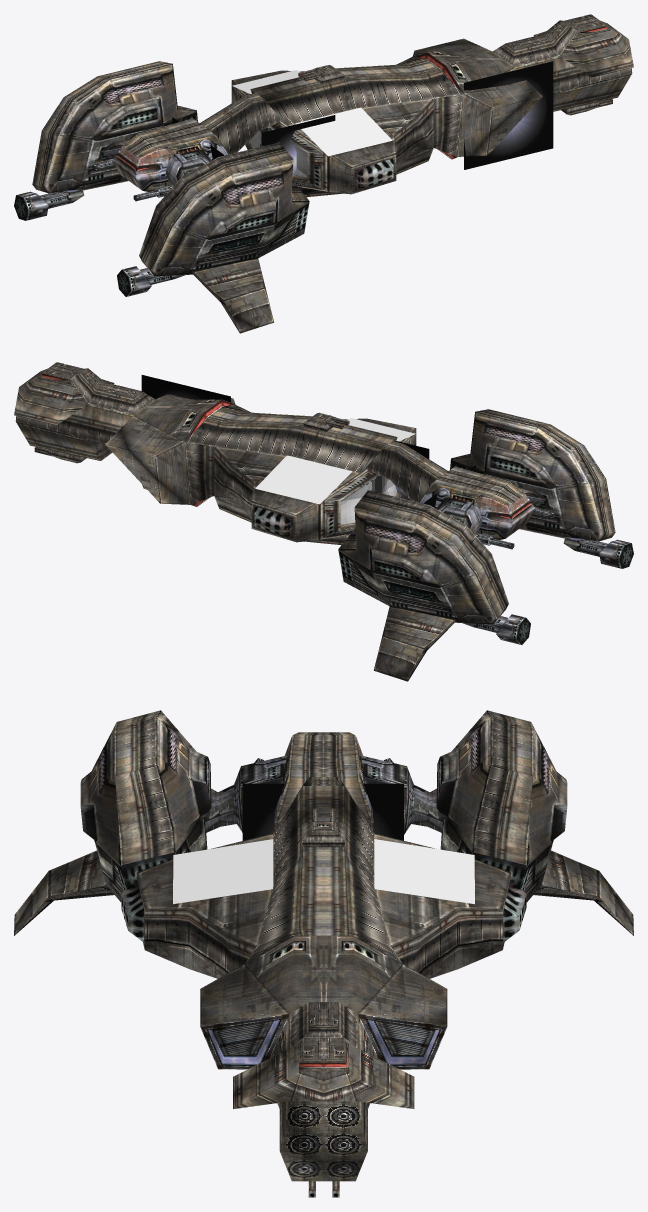
File: PVS09.obj
3 views of the same model, one above another, from view 1: azimuth 30°, elevation 25°; view 2: azimuth 150°, elevation 25°; view 3: azimuth 270°, elevation 25° (orthographic). The views are drawn at different scales.
Parts seen in each view (by area): view 1: WING010, PVS03_HULL0, PVS03_LENS100, DECAL000.002, PVS03_LENS090, PVS03_LENS080, WIN_SHEILD0; view 2: WING010, PVS03_HULL0, DECAL000.002, PVS03_LENS100, PVS03_LENS080, WIN_SHEILD0; view 3: PVS03_HULL0, WING010, DECAL000.002, PVS03_LENS110, THRUSTER_LIGHT0.
Part boxes in pixels (left/top/right/bottom): WING010: left=14, top=61, right=309, bottom=333; PVS03_HULL0: left=231, top=14, right=633, bottom=197; PVS03_LENS100: left=464, top=61, right=553, bottom=169; DECAL000.002: left=232, top=70, right=392, bottom=156; PVS03_LENS090: left=262, top=115, right=335, bottom=193; PVS03_LENS080: left=250, top=127, right=307, bottom=177; WIN_SHEILD0: left=414, top=26, right=607, bottom=159; WING010: left=338, top=409, right=633, bottom=681; PVS03_HULL0: left=14, top=362, right=416, bottom=545; DECAL000.002: left=255, top=418, right=415, bottom=504; PVS03_LENS100: left=141, top=375, right=230, bottom=415; PVS03_LENS080: left=340, top=475, right=396, bottom=524; WIN_SHEILD0: left=40, top=373, right=235, bottom=506; PVS03_HULL0: left=121, top=786, right=526, bottom=1181; WING010: left=14, top=710, right=633, bottom=935; DECAL000.002: left=173, top=839, right=474, bottom=904; PVS03_LENS110: left=242, top=783, right=403, bottom=840; THRUSTER_LIGHT0: left=208, top=1020, right=439, bottom=1065.
Size of the model in its own units: 755 by 195 by 475.
Materials: 20 (20 with a texture image).
